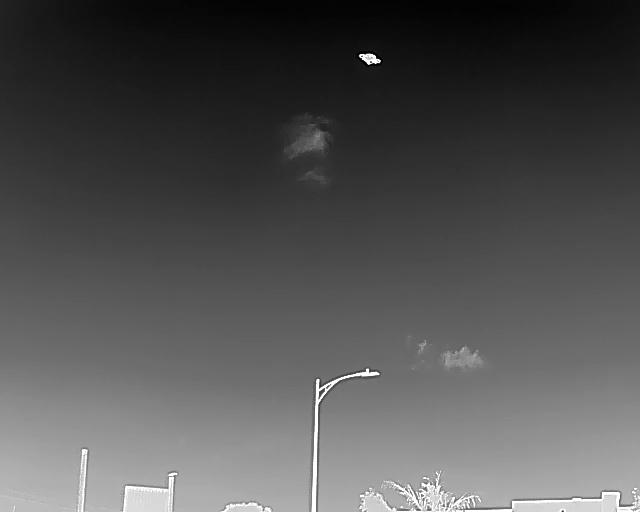fpv-drone: (358, 53, 381, 65)
